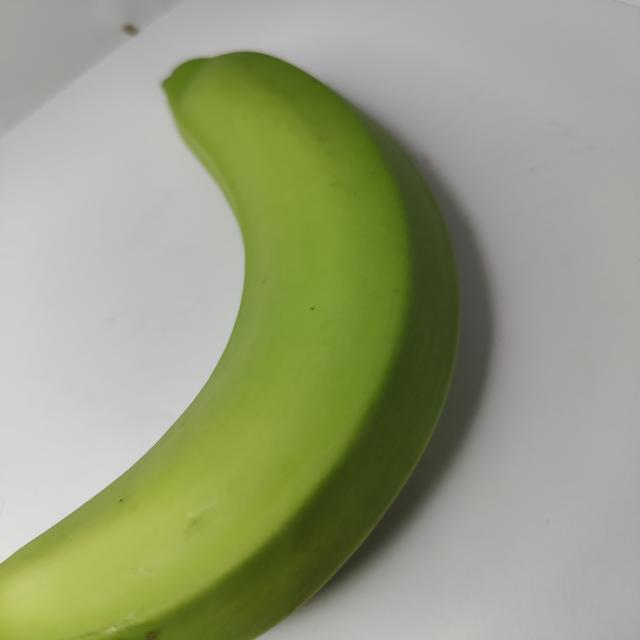raw: (4, 37, 504, 640)
